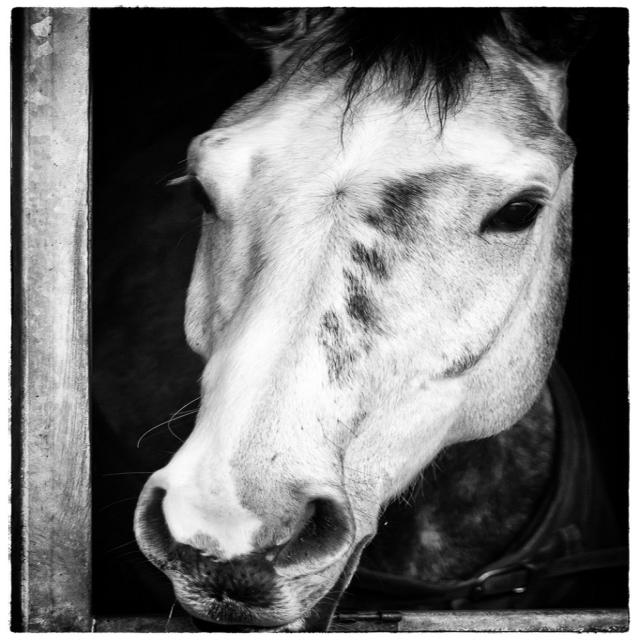Horse: (134, 3, 580, 637)
